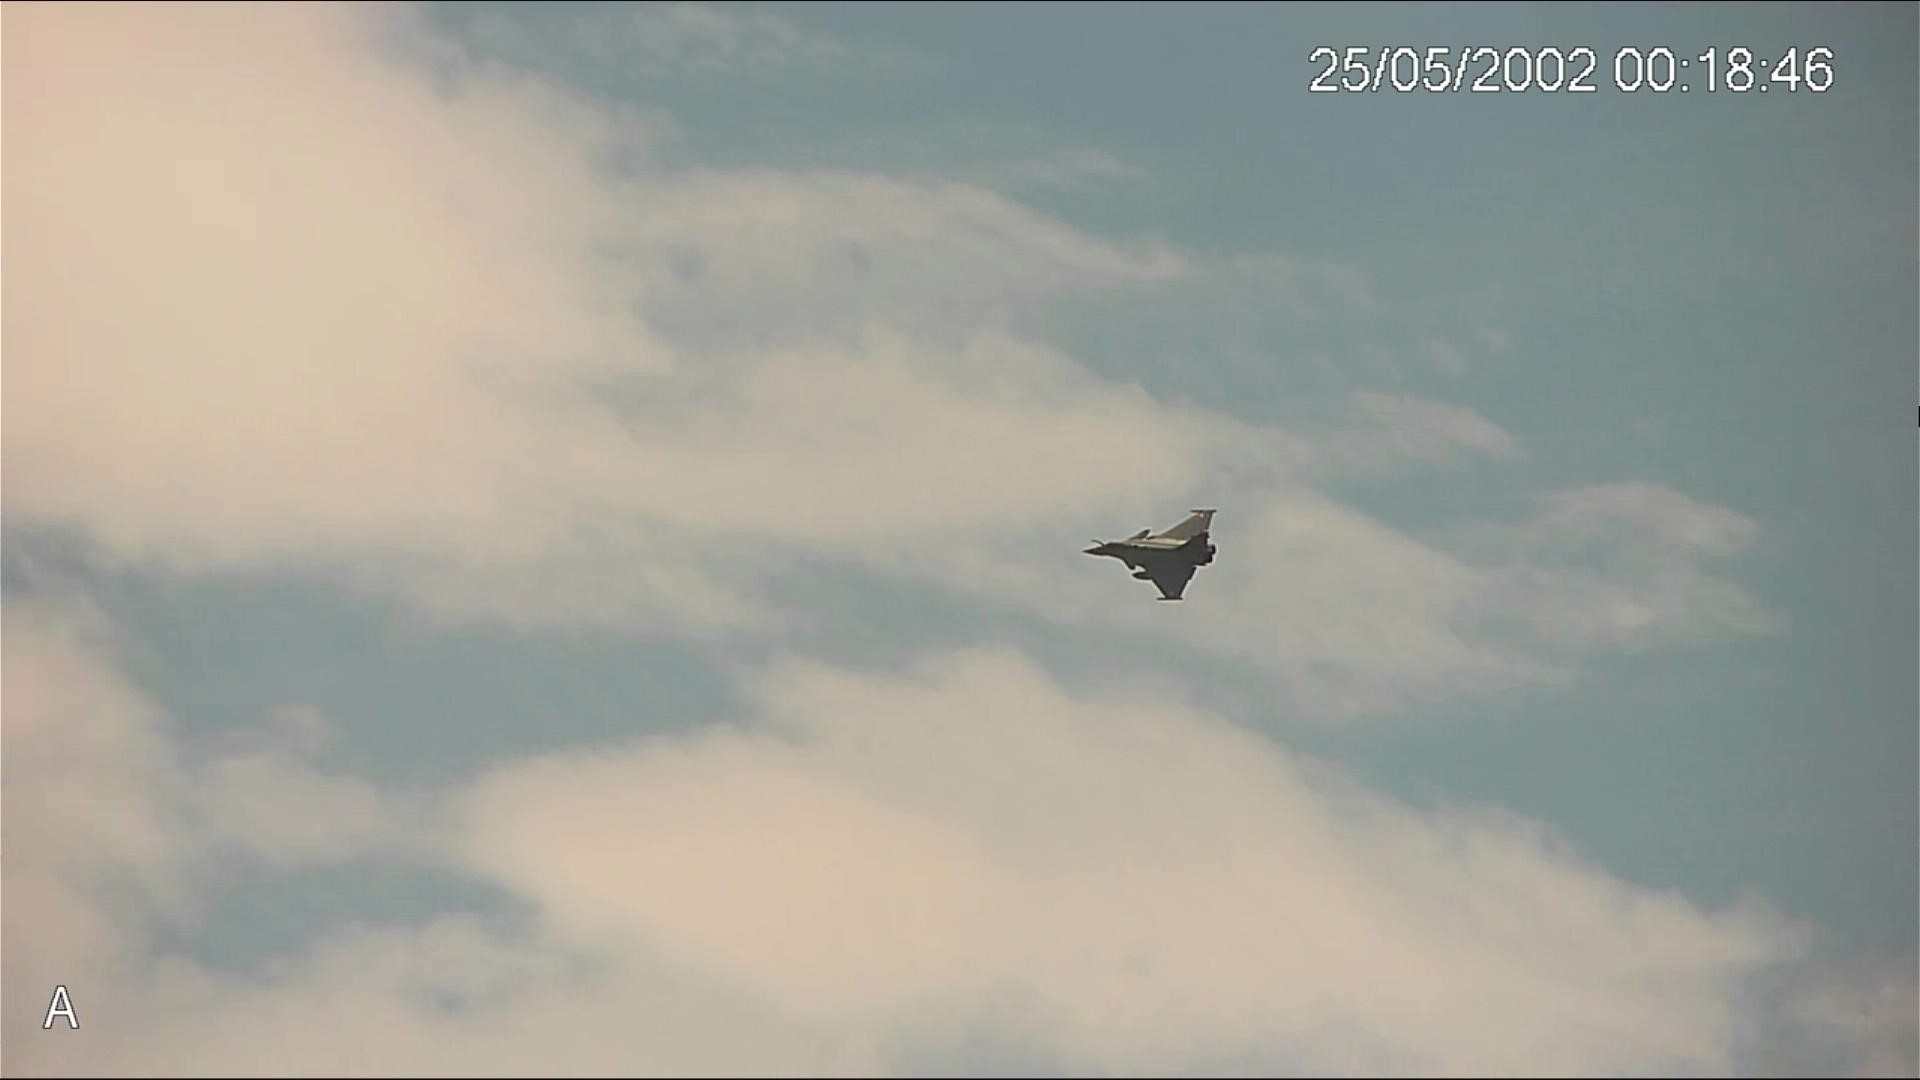SU_30: (1083, 502, 1226, 607)
